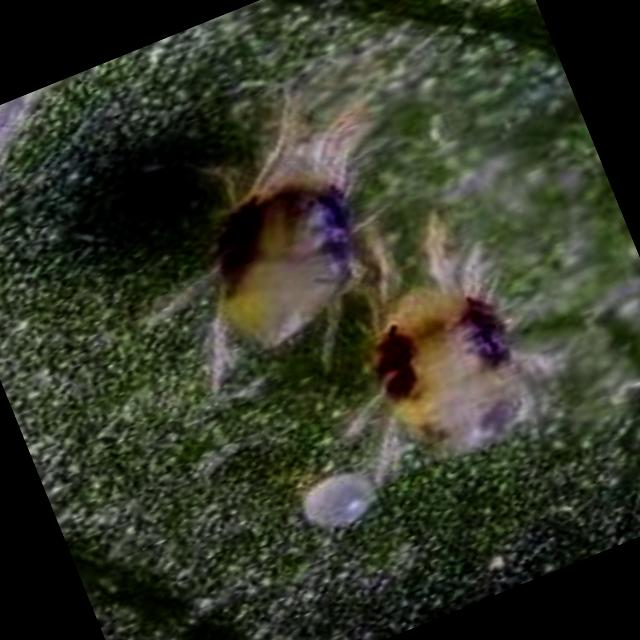spider mite: (119, 76, 443, 377), (296, 203, 588, 484)
